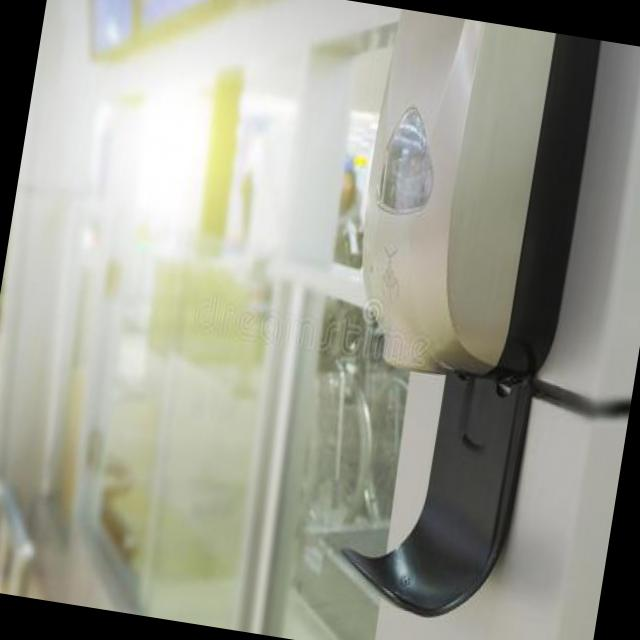sanitizer: (332, 9, 590, 402)
